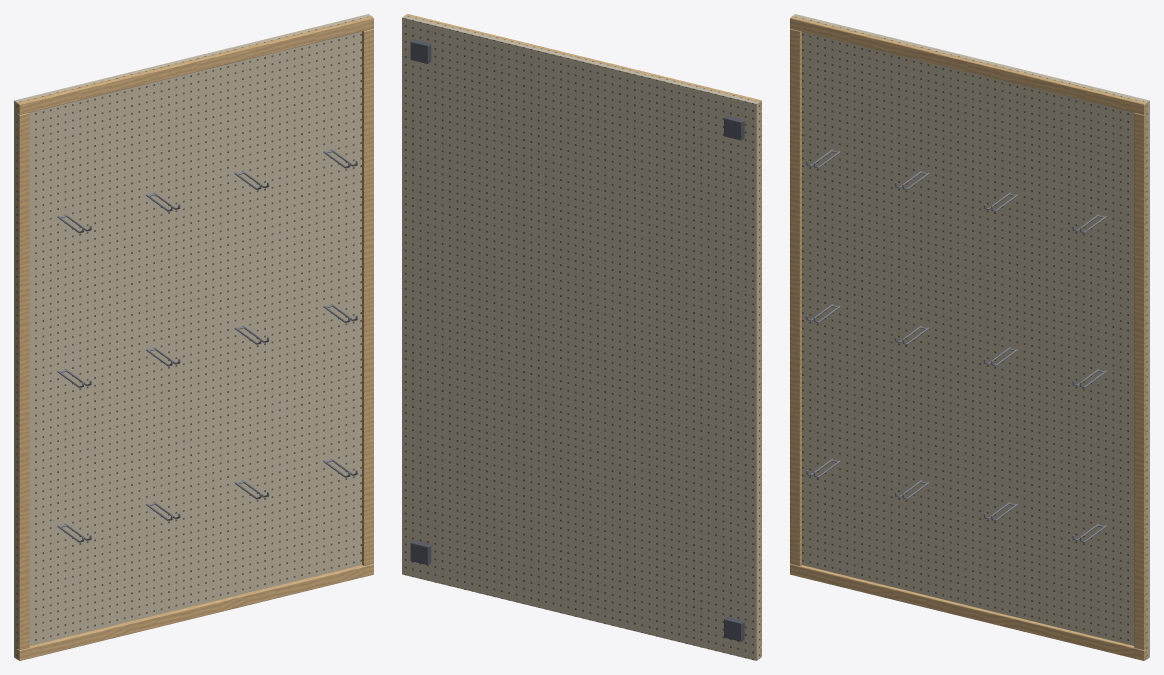
Rendered from pegboard_wall.glb.
3 renders of one model, left to right at view 1: azimuth 30°, elevation 25°; view 2: azimuth 150°, elevation 25°; view 3: azimuth 330°, elevation 25°, orthographic.
Parts seen in each view (by area): view 1: pegboard_wall.001; view 2: pegboard_wall.001; view 3: pegboard_wall.001.
Boxes of the visible parts, x1=… form: pegboard_wall.001: x1=14, y1=14, x2=373, y2=660; pegboard_wall.001: x1=402, y1=14, x2=761, y2=660; pegboard_wall.001: x1=790, y1=14, x2=1149, y2=660.
Size of what is drawn, in the model's own units: 1.2 by 1.8 by 0.19.
4 materials, 4 textured.
